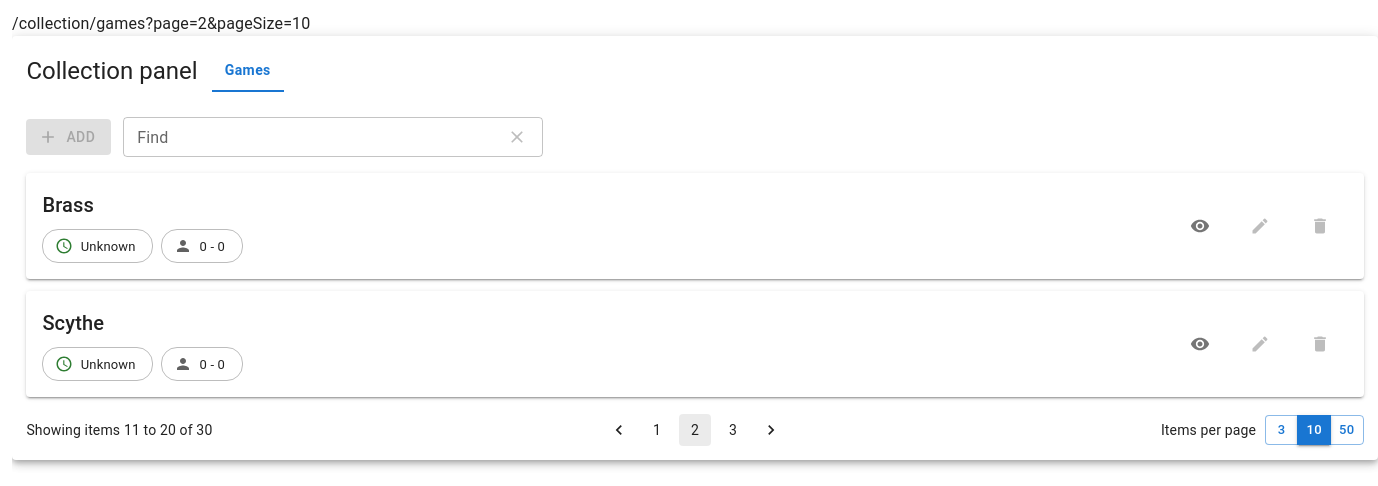
EntityPanel pagination › navigates to a clean item route and keeps pagination in history state
The width and height of the screenshot is (1378, 486).
Click the button named "View item" in the row of "Brass" at [1200, 226], box x1=1172 y1=198 x2=1228 y2=254
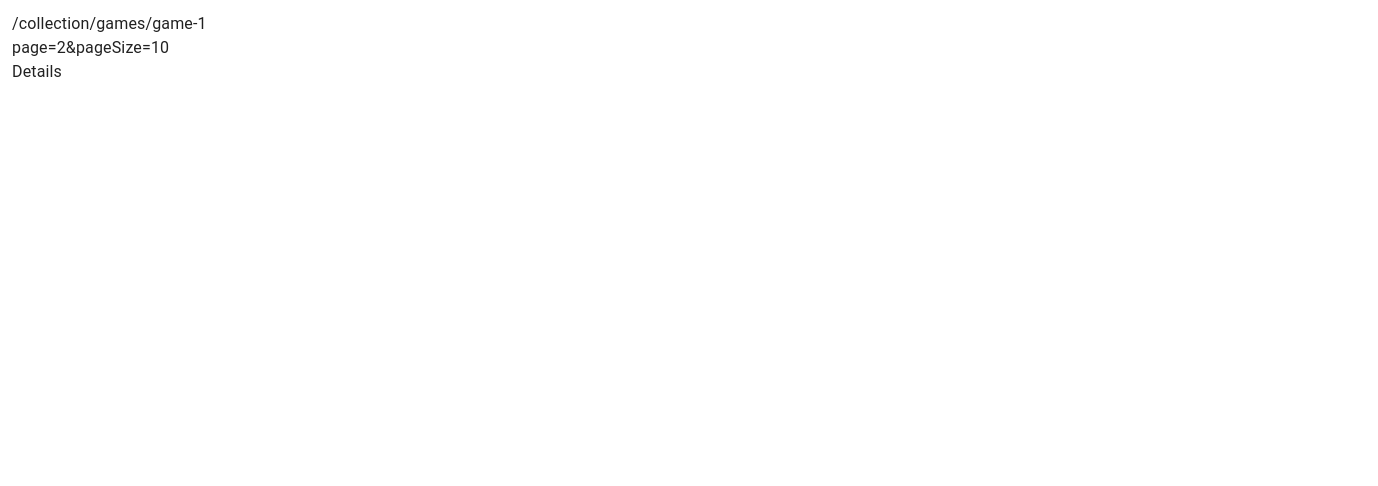
Expected: the text with test id "list-search" reads "page=2&pageSize=10", x1=12 y1=38 x2=169 y2=57
Expected: the text with test id "location" reads "/collection/games/game-1", x1=12 y1=14 x2=207 y2=33
